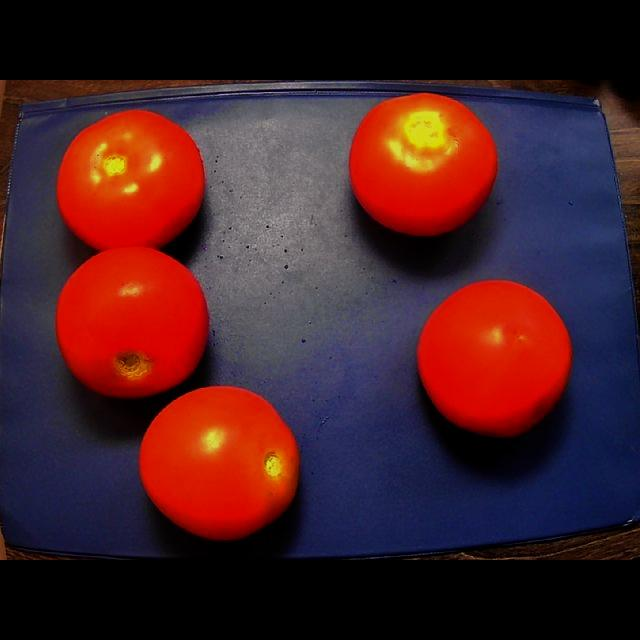tomate: (139, 386, 299, 540), (418, 280, 572, 437), (56, 247, 209, 398), (350, 93, 497, 236), (57, 111, 204, 250)
